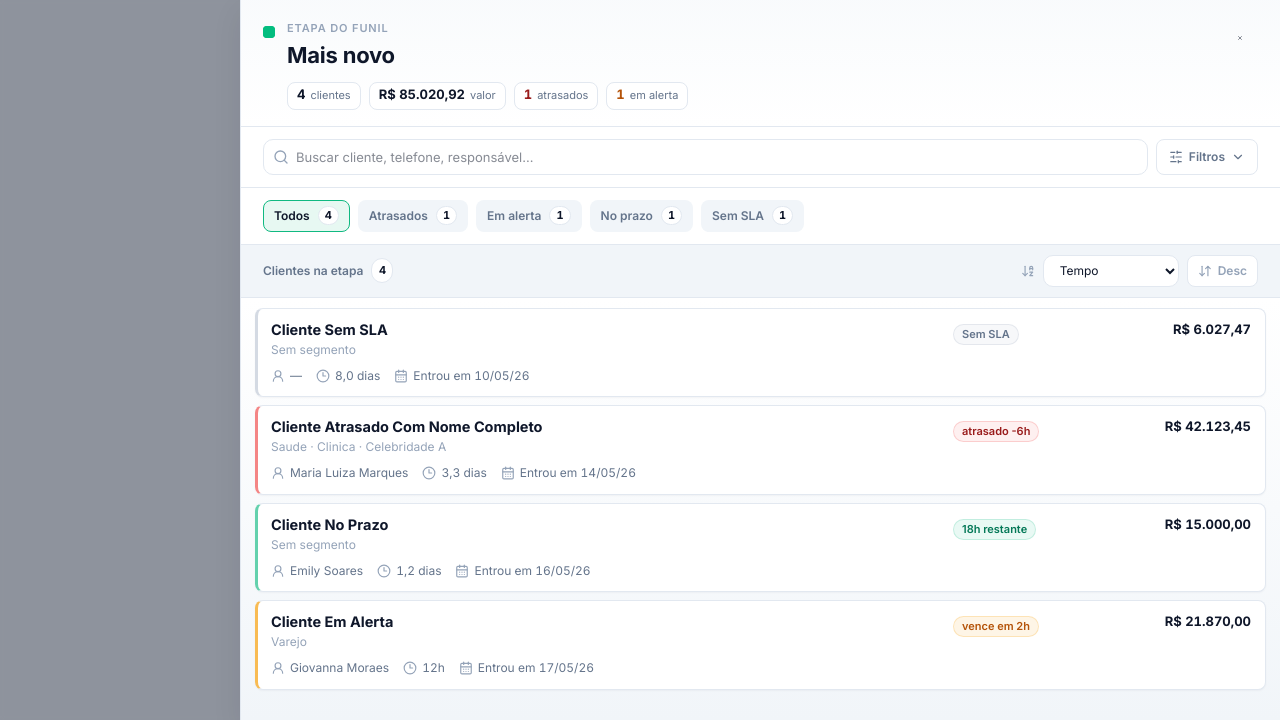
Test: FunilStageDrawer › filters visible rows by overdue and no-SLA status tabs
Click the button "Atrasados 1": coordinates (413, 216) [358, 200, 468, 232]
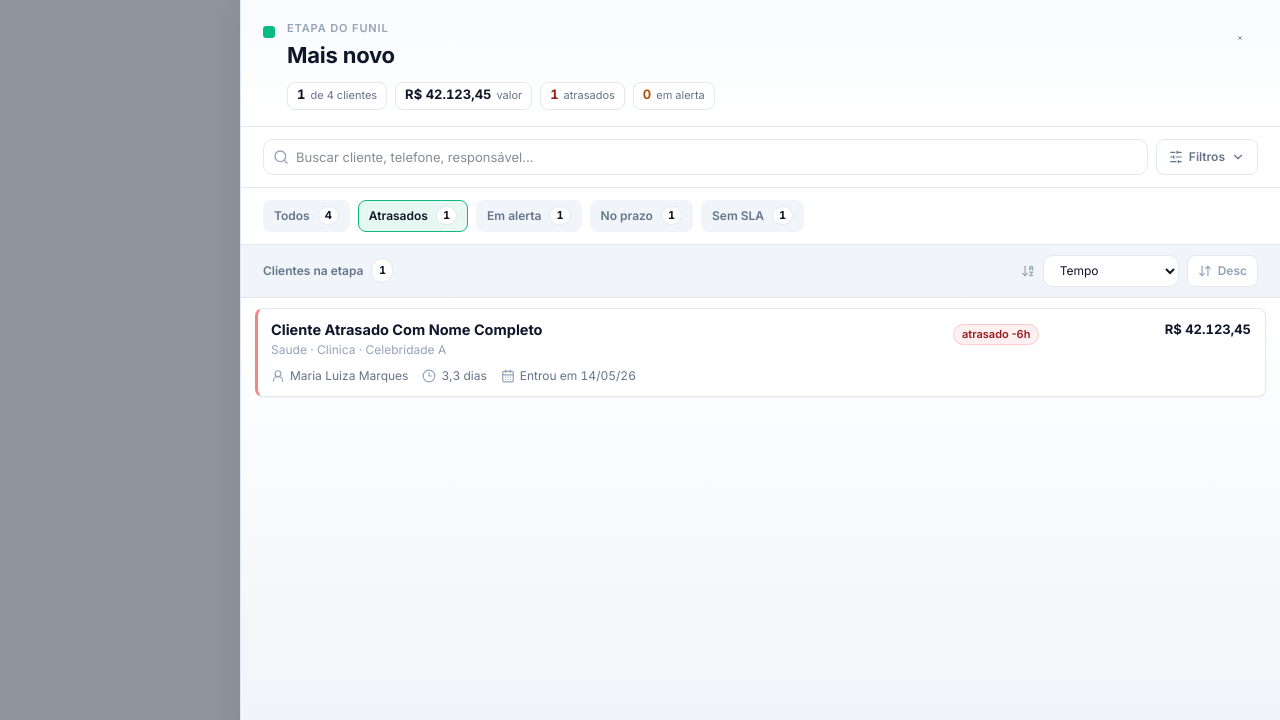
Expected: the text "Cliente Atrasado Com Nome Completo" is shown, [271, 320, 542, 338]
Now the list item "Cliente Em Alerta" is gone
Now the list item "Cliente Sem SLA" is gone
Click the button "Sem SLA 1": coordinates (753, 216) [701, 200, 804, 232]
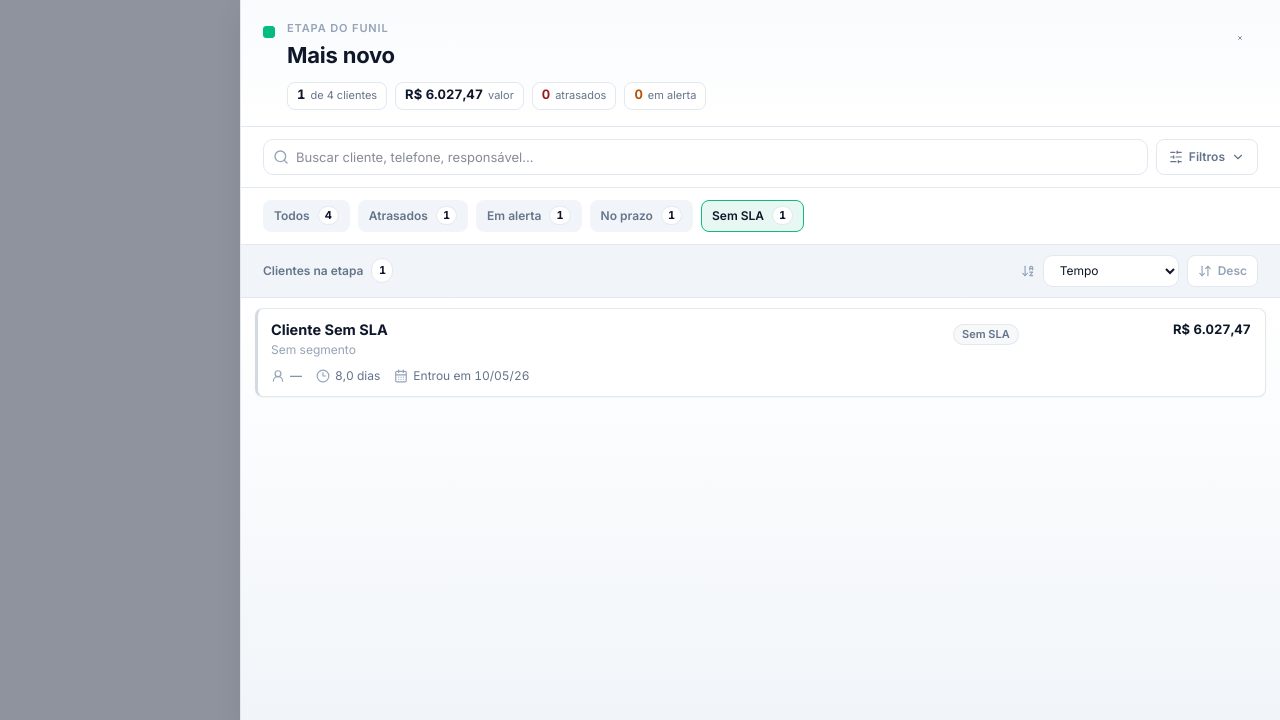
Now the text "Cliente Sem SLA" is shown, box [271, 320, 388, 338]
Now the list item "Cliente Atrasado Com Nome Completo" is gone
